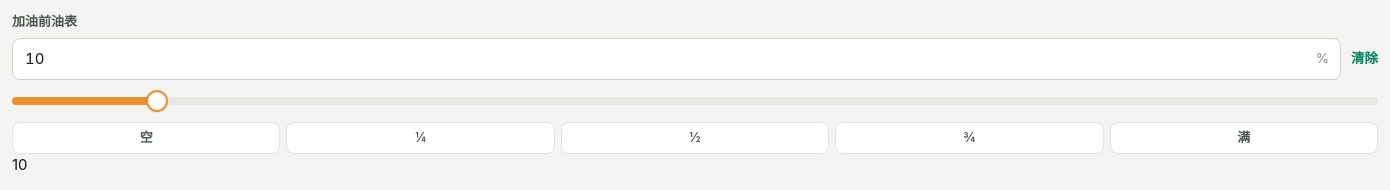
Test: GaugeField › still supports dragging
Set the slider named "拖动调整刻度" to "62": (857, 100) [12,96,1378,104]
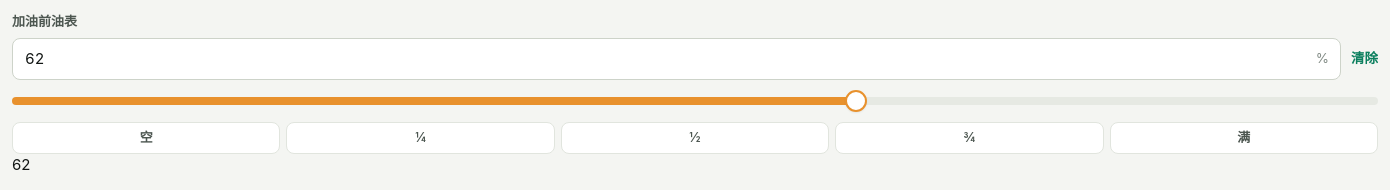
Now the text with test id "value" reads "62", box [12,154,30,174]
